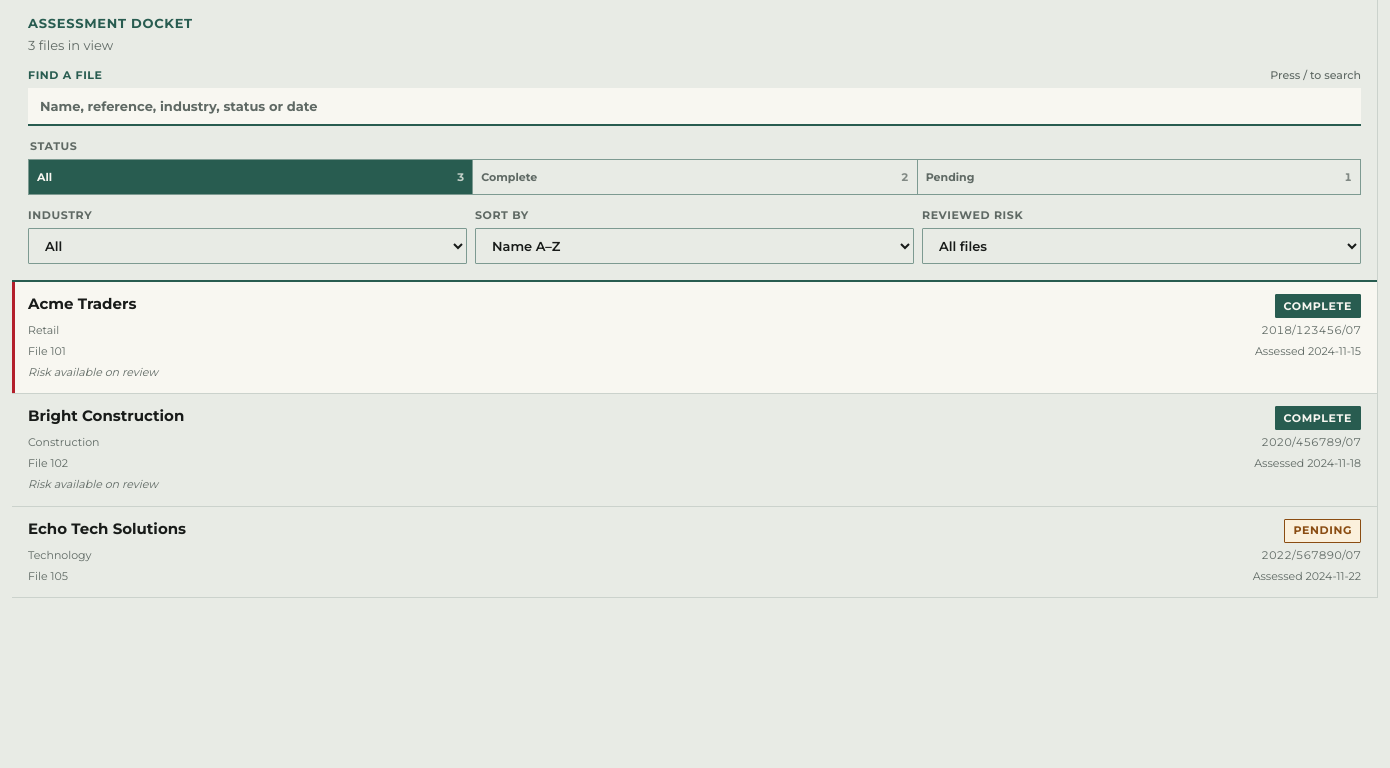
Scenario: Docket › applies status filters and updates the visible count
The width and height of the screenshot is (1390, 768).
Click the button with aria-label "Pending: 1" at (950, 177), box [917,159,1361,195]
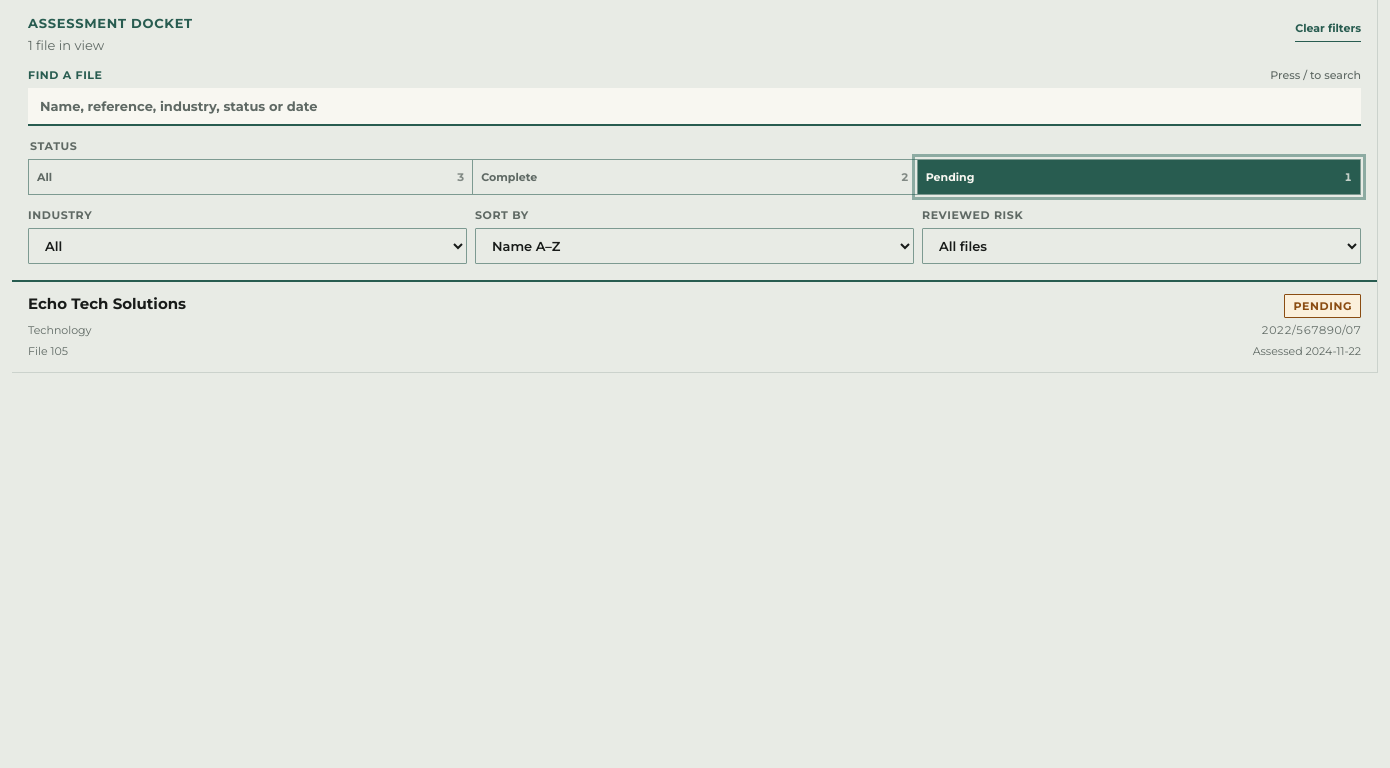
Expected: the text "Echo Tech Solutions" is shown, [28,294,186,314]
Expected: the text "1 file in view" is shown, [28,37,104,53]
Expected: the button "Acme Traders" is gone
